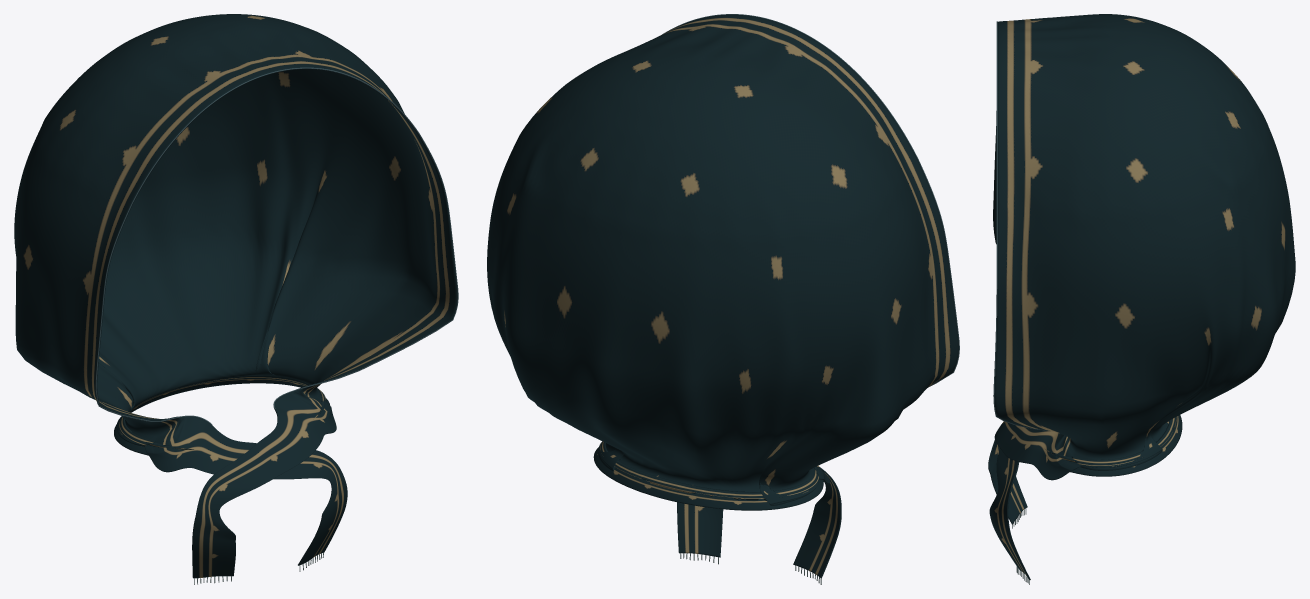
File: Feminine-sweatshirt-pashmina242-headgear.glb
3 renders of one model, left to right at view 1: azimuth 30°, elevation 25°; view 2: azimuth 150°, elevation 25°; view 3: azimuth 270°, elevation 25°, orthographic. The views are drawn at different scales.
Parts seen in each view (by area): view 1: 226 headgear / Headwear / continuous woven pashmina239, 226 headgear / Headwear / face edge239; view 2: 226 headgear / Headwear / continuous woven pashmina239, 226 headgear / Headwear / face edge239; view 3: 226 headgear / Headwear / continuous woven pashmina239, 226 headgear / Headwear / face edge239.
Boxes of the visible parts, box(x1,y1,x2,y2) form: 226 headgear / Headwear / continuous woven pashmina239: box(14, 14, 457, 578); 226 headgear / Headwear / face edge239: box(95, 67, 458, 424); 226 headgear / Headwear / continuous woven pashmina239: box(487, 14, 958, 578); 226 headgear / Headwear / face edge239: box(662, 14, 959, 387); 226 headgear / Headwear / continuous woven pashmina239: box(988, 14, 1295, 579); 226 headgear / Headwear / face edge239: box(993, 21, 1045, 430).
Size of the model in its own units: 1.02 by 1.35 by 0.723.
Materials: 3 (1 with a texture image).
